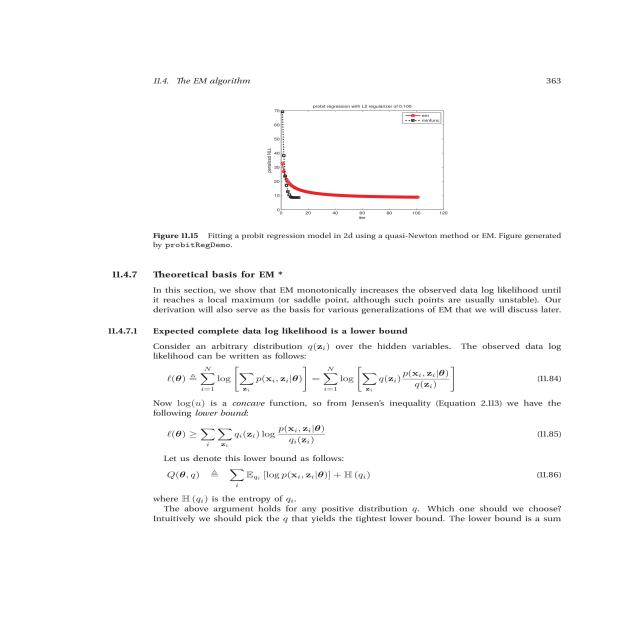diagram: (97, 90, 590, 259)
